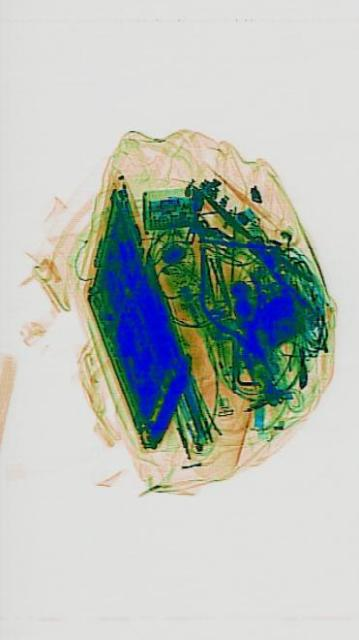Pliers: (187, 220, 284, 410)
